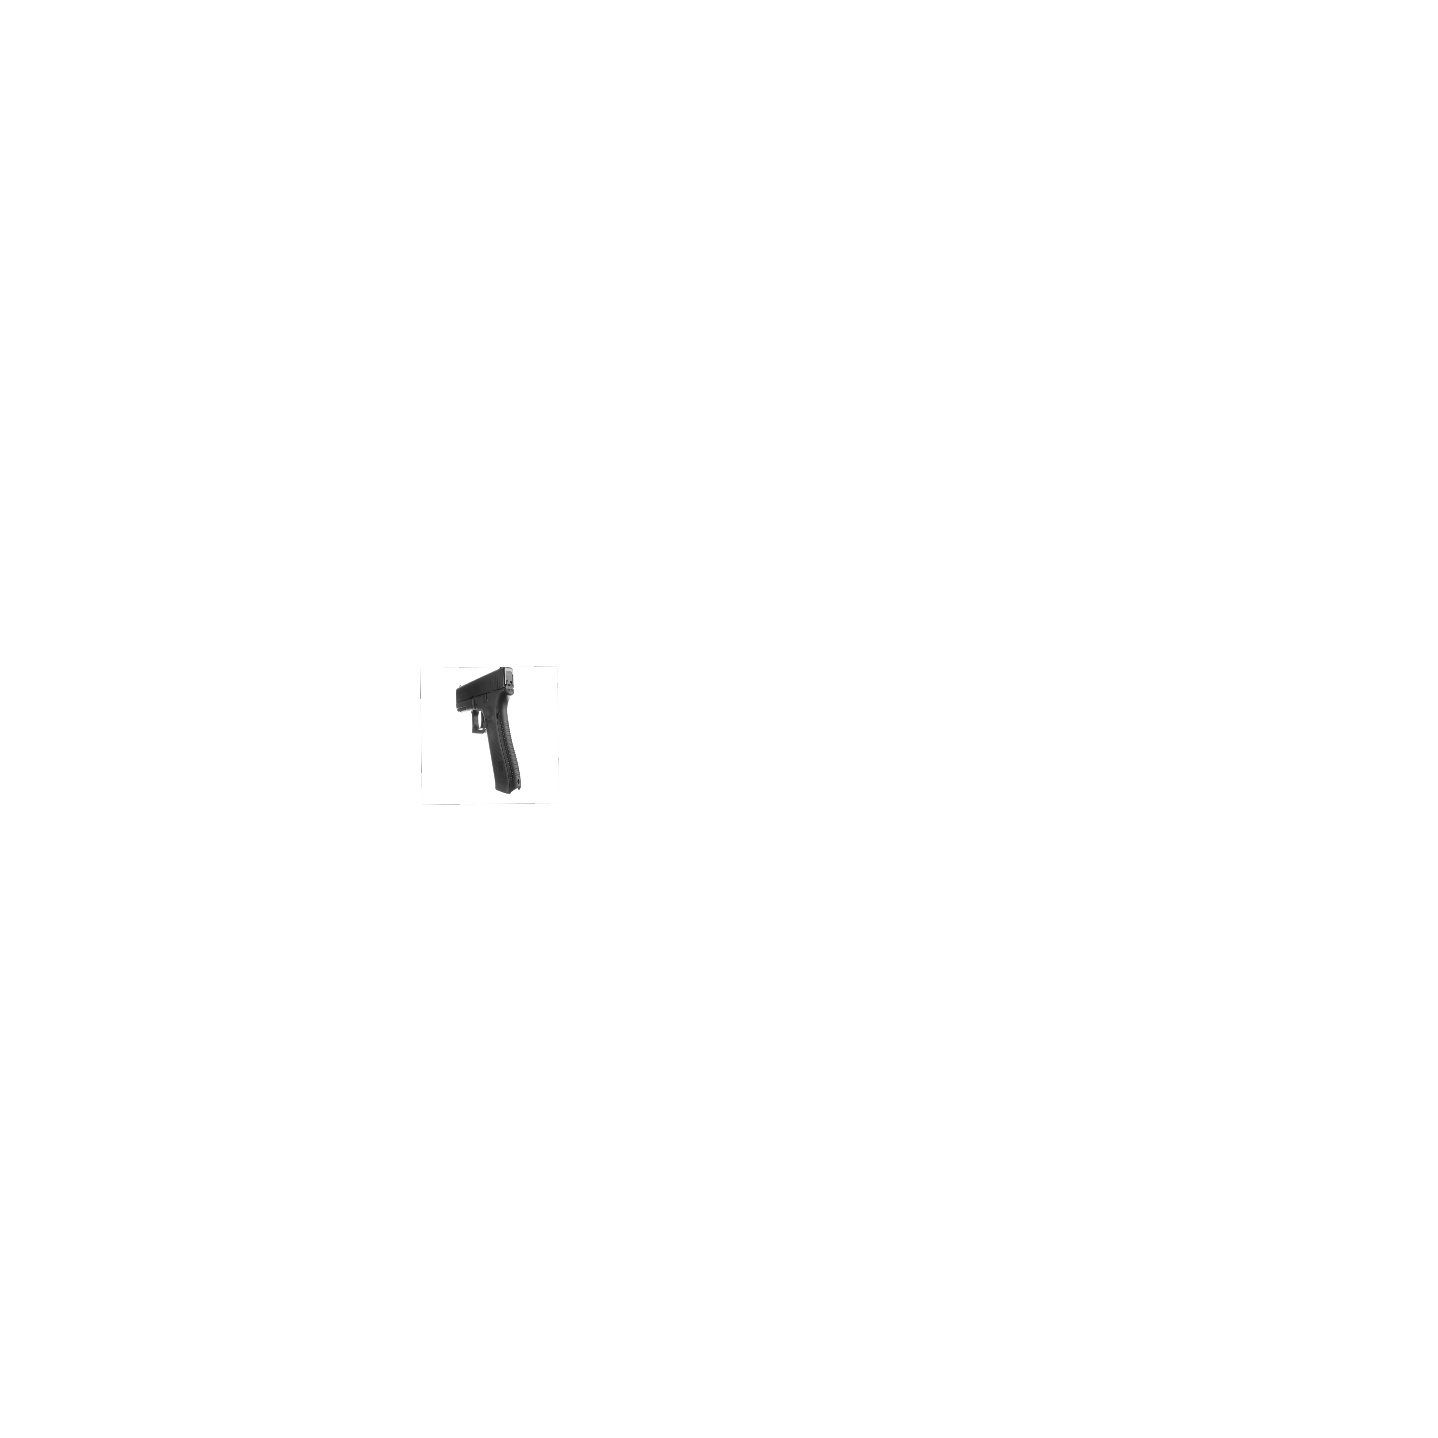gun: (449, 666, 531, 799)
